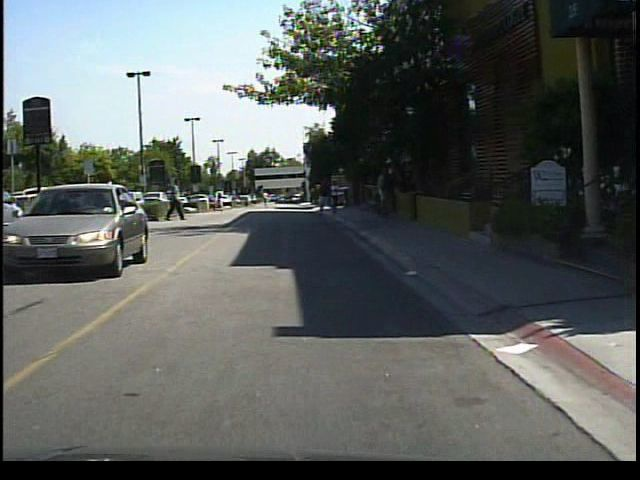person: (375, 160, 399, 225), (317, 168, 342, 220), (102, 176, 125, 229), (166, 174, 186, 223), (73, 182, 91, 229), (214, 187, 229, 214), (260, 189, 276, 212)
